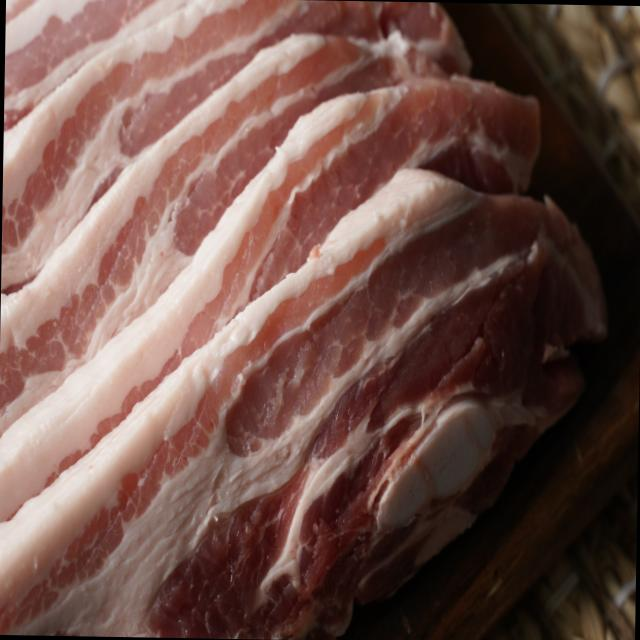pork: (0, 0, 617, 640)
